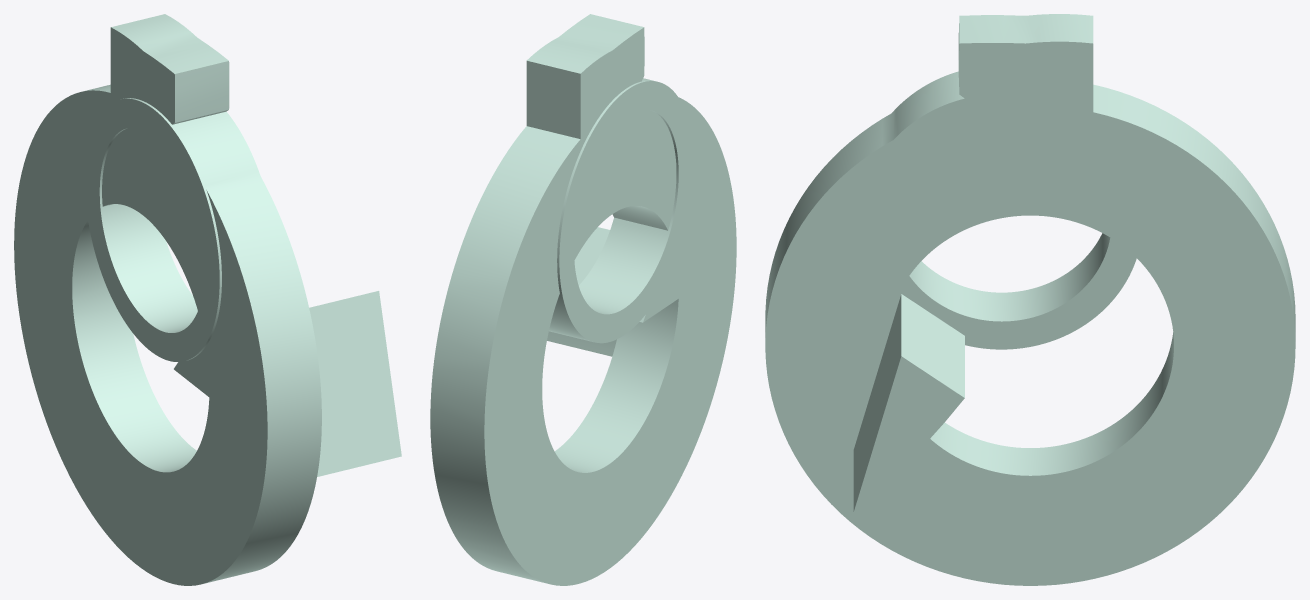
3 views of the same model, side by side, from view 1: azimuth 30°, elevation 25°; view 2: azimuth 150°, elevation 25°; view 3: azimuth 270°, elevation 25° (orthographic). The views are drawn at different scales.
Visible parts, largest first — view 1: Renderer Node; view 2: Renderer Node; view 3: Renderer Node.
Part boxes in pixels (bbox=[...]): Renderer Node: bbox=[14, 14, 401, 585]; Renderer Node: bbox=[430, 14, 736, 585]; Renderer Node: bbox=[765, 14, 1295, 585].
Size of the model in its own units: 0.6172 by 1.72 by 1.52.
